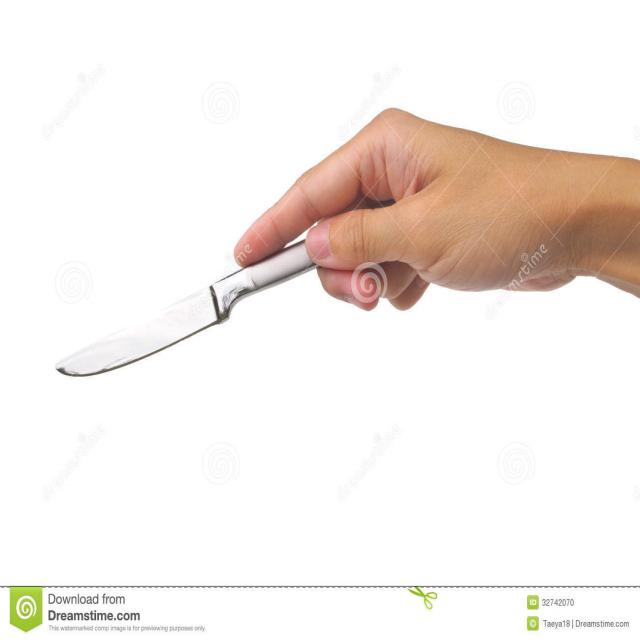knife: (55, 240, 323, 377)
